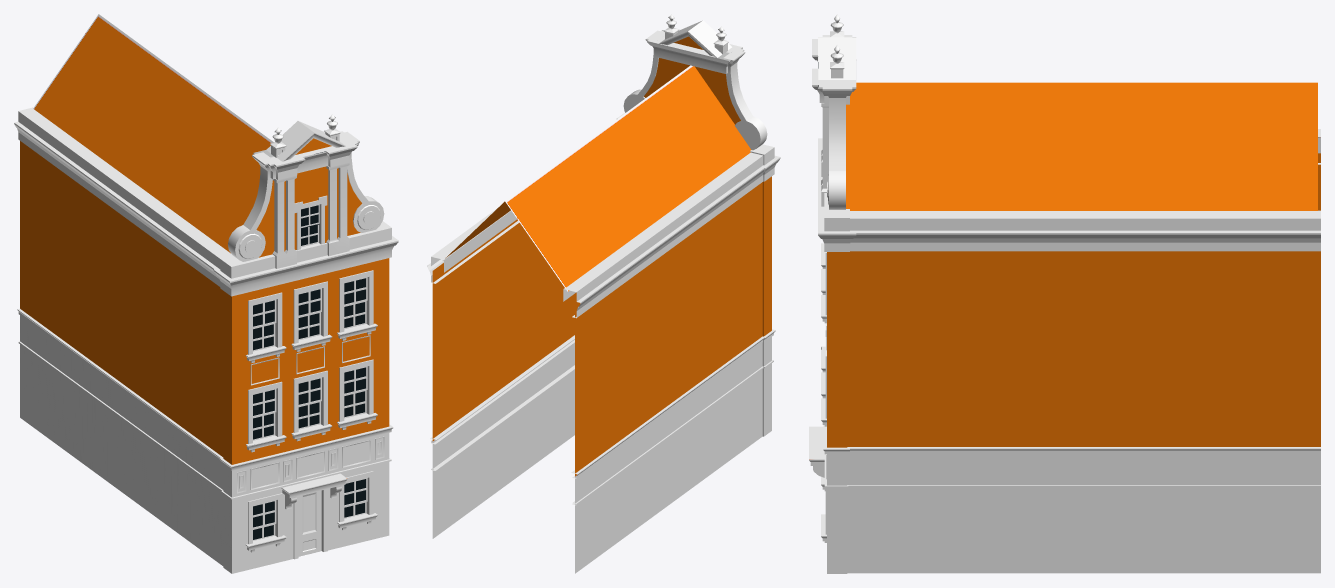
The model's file is Huis1.fbx.
The picture shows the model from 3 angles, left to right: view 1: azimuth 30°, elevation 25°; view 2: azimuth 150°, elevation 25°; view 3: azimuth 270°, elevation 25°; orthographic projection. The views are drawn at different scales.
Visible parts, largest first — view 1: Side, Front; view 2: Side, Front; view 3: Side, Front.
Boxes of the visible parts, <box> form: Side: <box>14,14,273,565</box>; Front: <box>213,114,398,573</box>; Side: <box>427,65,773,573</box>; Front: <box>617,14,780,436</box>; Side: <box>831,82,1320,573</box>; Front: <box>809,14,856,573</box>.
Size of the model in its own units: 1045 by 2553 by 2370.
